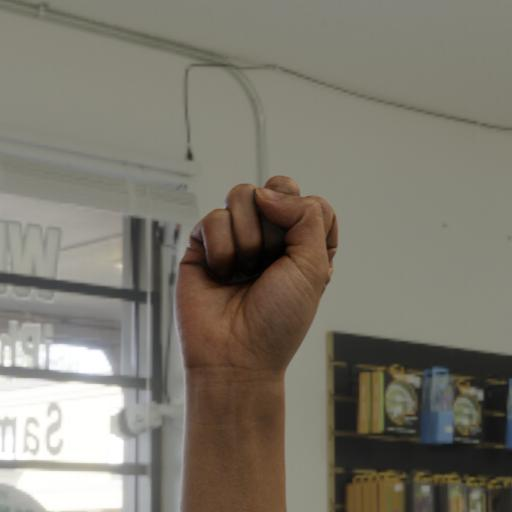S: (150, 140, 369, 393)
